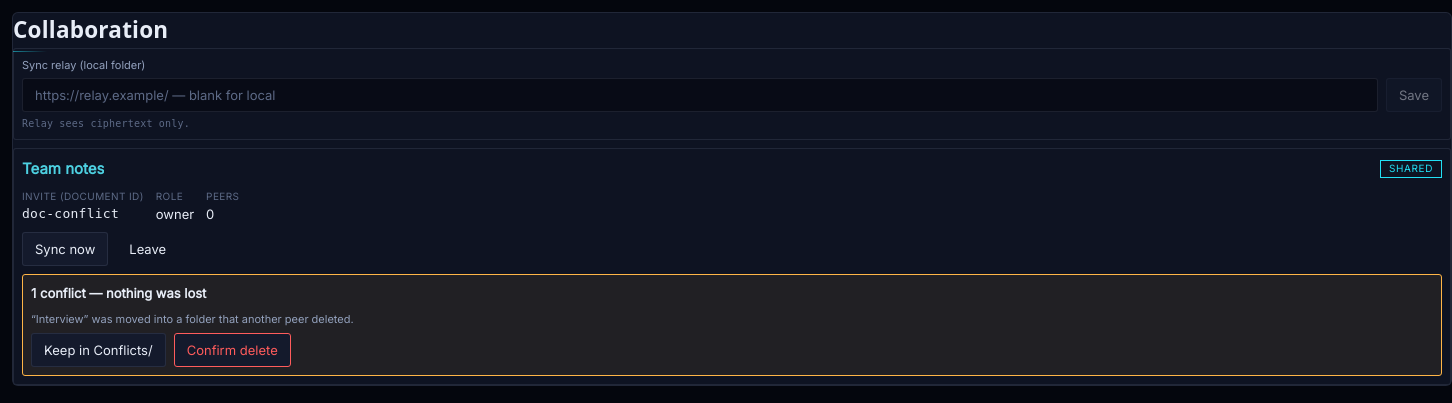
Test: CollaborationPanel › surfaces conflicts and resolves them
expect the text "1 conflict — nothing was lost" is shown: met, box [31, 285, 206, 301]
expect the text "Interview" is shown: met, box [31, 312, 354, 326]
Step 1. Click the button "Keep in Conflicts/" → point(98, 350), box [31, 332, 166, 366]
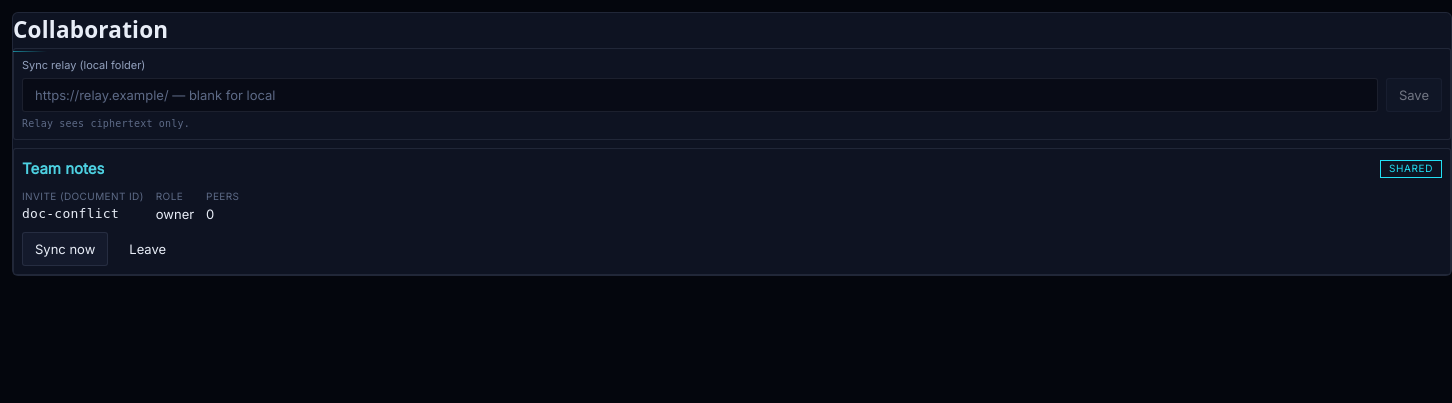
expect the text "nothing was lost" is gone: met
